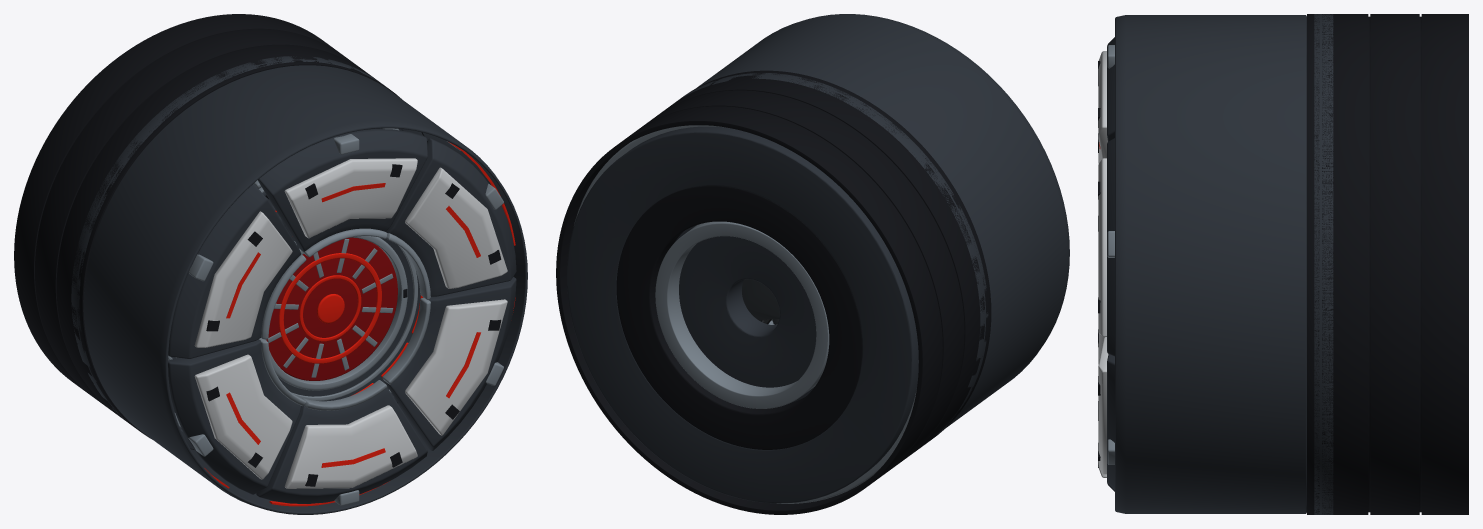
The model's file is coreDetail.glb.
3 views of the same model, side by side, from view 1: azimuth 30°, elevation 25°; view 2: azimuth 150°, elevation 25°; view 3: azimuth 270°, elevation 25° (orthographic). The views are drawn at different scales.
Parts seen in each view (by area): view 1: Chest | receiver shoulder, Optic | bus bars, Shield 05.3 | armor, Shield 05.2 | armor, Shield 05.4 | armor, Shield 05.5 | armor, Shield 05.1 | armor, Shield 05.6 | armor; view 2: Chest | receiver shoulder, Reactor | Chamber | Anvil asymmetric heat comb; view 3: Chest | receiver shoulder, Shield 05.1 | armor, Shield 05.5 | armor, Shield 05.3 | armor.
Boxes of the visible parts, box(x1,y1,x2,y2) form: Chest | receiver shoulder: box(14, 14, 527, 514); Optic | bus bars: box(264, 194, 422, 403); Shield 05.3 | armor: box(257, 129, 427, 257); Shield 05.2 | armor: box(168, 184, 306, 358); Shield 05.4 | armor: box(168, 338, 306, 494); Shield 05.5 | armor: box(382, 277, 516, 450); Shield 05.1 | armor: box(386, 138, 516, 299); Shield 05.6 | armor: box(256, 380, 427, 505); Chest | receiver shoulder: box(556, 14, 1069, 514); Reactor | Chamber | Anvil asymmetric heat comb: box(655, 221, 829, 408); Chest | receiver shoulder: box(1115, 14, 1468, 514); Shield 05.1 | armor: box(1098, 138, 1114, 356); Shield 05.5 | armor: box(1098, 337, 1114, 490); Shield 05.3 | armor: box(1098, 37, 1114, 158).
Bounding box in the file's own units: 0.267 × 0.267 × 0.1977.
